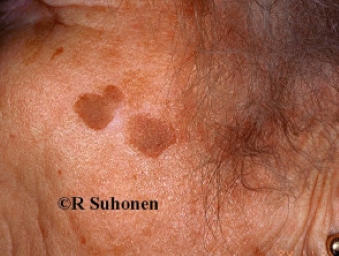seborrheic keratosis: (46, 53, 189, 185)
